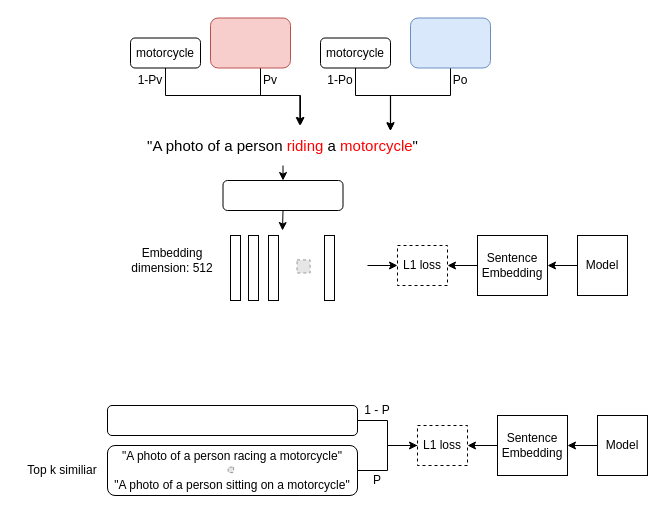
Some shapes in this 665 by 513 pixel diagram are drawn without their labels. Grey dashed boxes stand in for pictures. The shapes that lost their labels are listed below. From the top down, each one's centre as x and y in pixels, then its label:
(x=250, y=42): riding rodes
(x=450, y=42): motrobike scooter
(x=282, y=195): Clip Text Encoder
(x=232, y=420): "A photo of a person riding a motorcycle"
